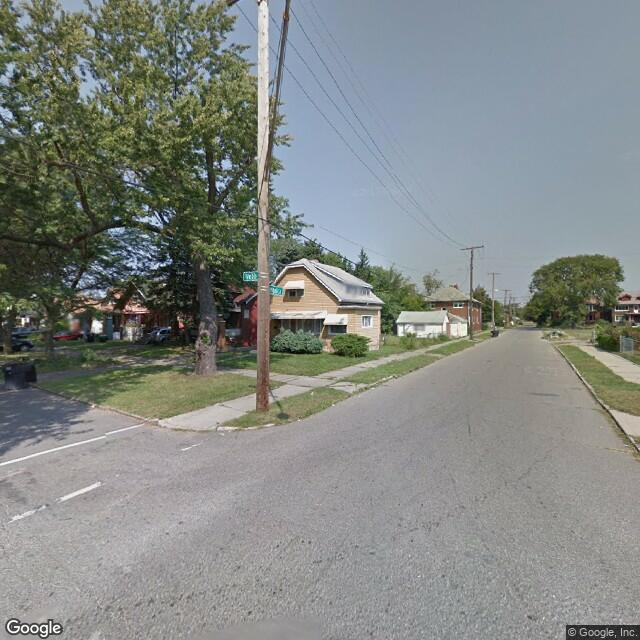litter: (90, 403, 97, 408), (295, 417, 303, 421), (309, 389, 314, 395), (330, 401, 335, 406)
